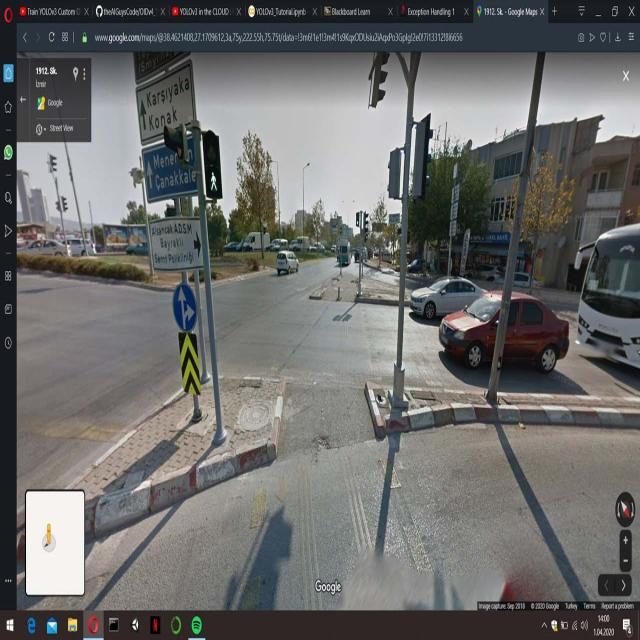ilerisag: (172, 284, 198, 332)
